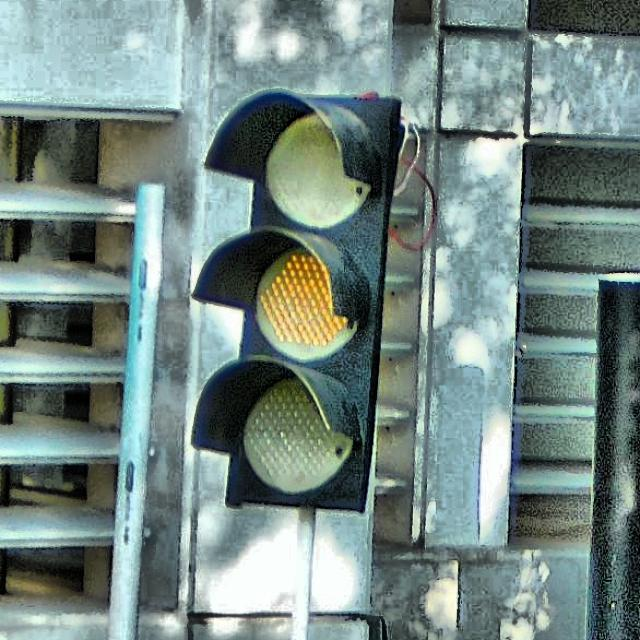yellow: (192, 95, 404, 514)
